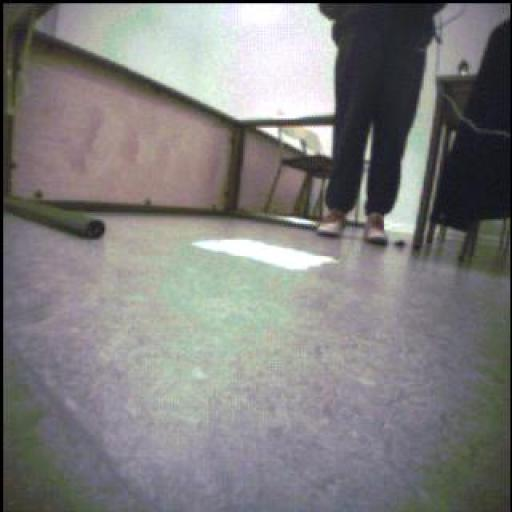Pad: (195, 240, 337, 272)
